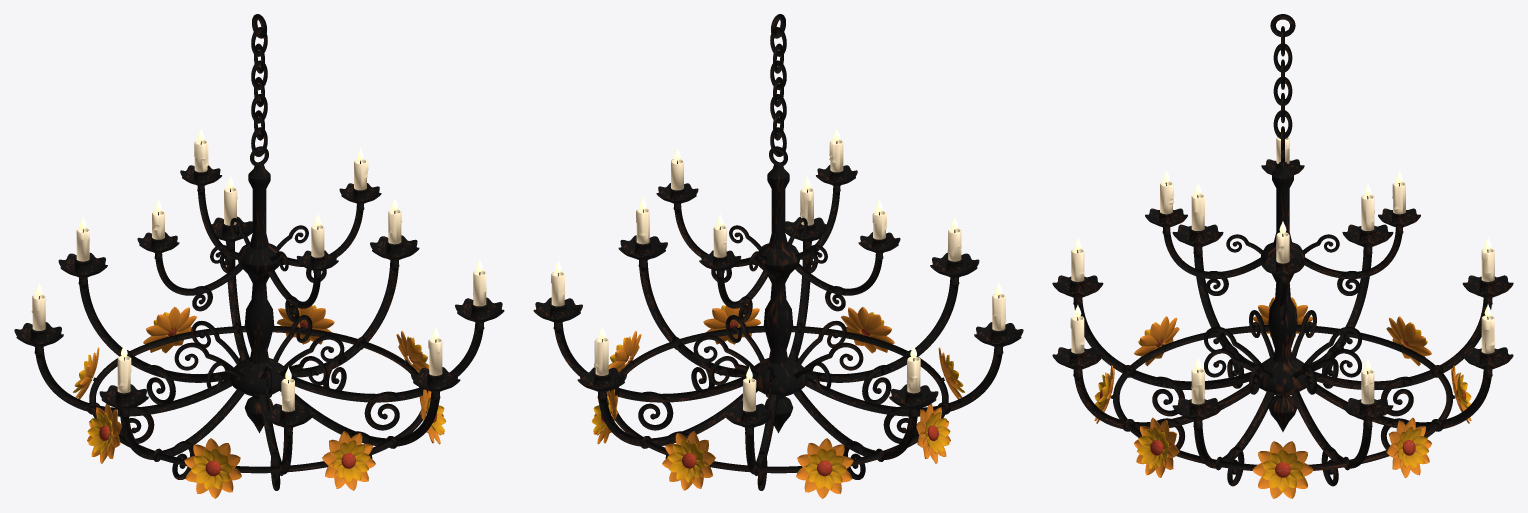
Rendered from chandelier_hero.glb.
3 renders of one model, left to right at view 1: azimuth 30°, elevation 25°; view 2: azimuth 150°, elevation 25°; view 3: azimuth 270°, elevation 25°, orthographic.
Parts seen in each view (by area): view 1: chandelier_hero; view 2: chandelier_hero; view 3: chandelier_hero.
Part boxes in pixels (x1,y1,x2,y2): chandelier_hero: (14,14,504,498); chandelier_hero: (533,14,1023,498); chandelier_hero: (1052,14,1513,498).
Bounding box in the file's own units: 0.752 × 0.7591 × 0.752.
Materials: 4 (2 with a texture image).
